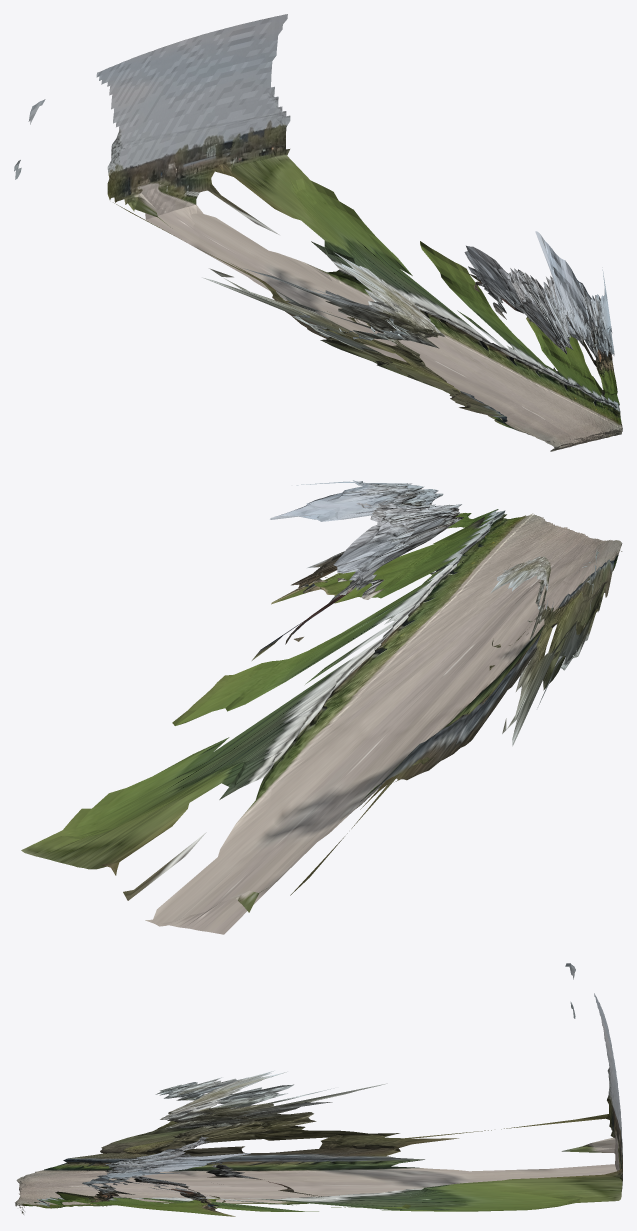
3 renders of one model, top to bottom at view 1: azimuth 30°, elevation 25°; view 2: azimuth 150°, elevation 25°; view 3: azimuth 270°, elevation 25°, orthographic. The views are drawn at different scales.
Visible parts, largest first — view 1: defaultobject; view 2: defaultobject; view 3: defaultobject.
Boxes of the visible parts, box(x1,y1,x2,y2) form: defaultobject: box(14, 14, 622, 451); defaultobject: box(21, 480, 622, 934); defaultobject: box(15, 963, 622, 1216).
Bounding box in the file's own units: 26.21 × 12.44 × 44.52.
1 material, 1 textured.
